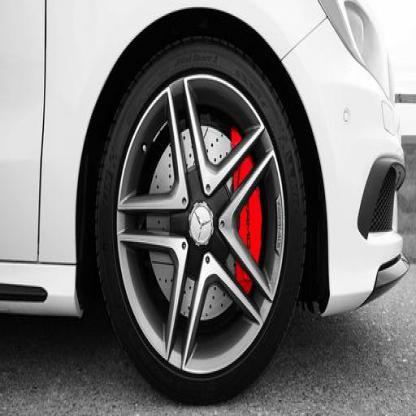Tire: (94, 38, 307, 406)
